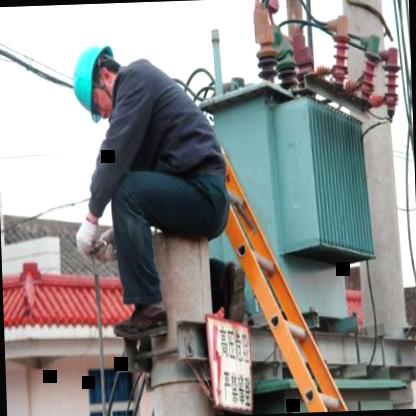helmet: (68, 34, 128, 124)
